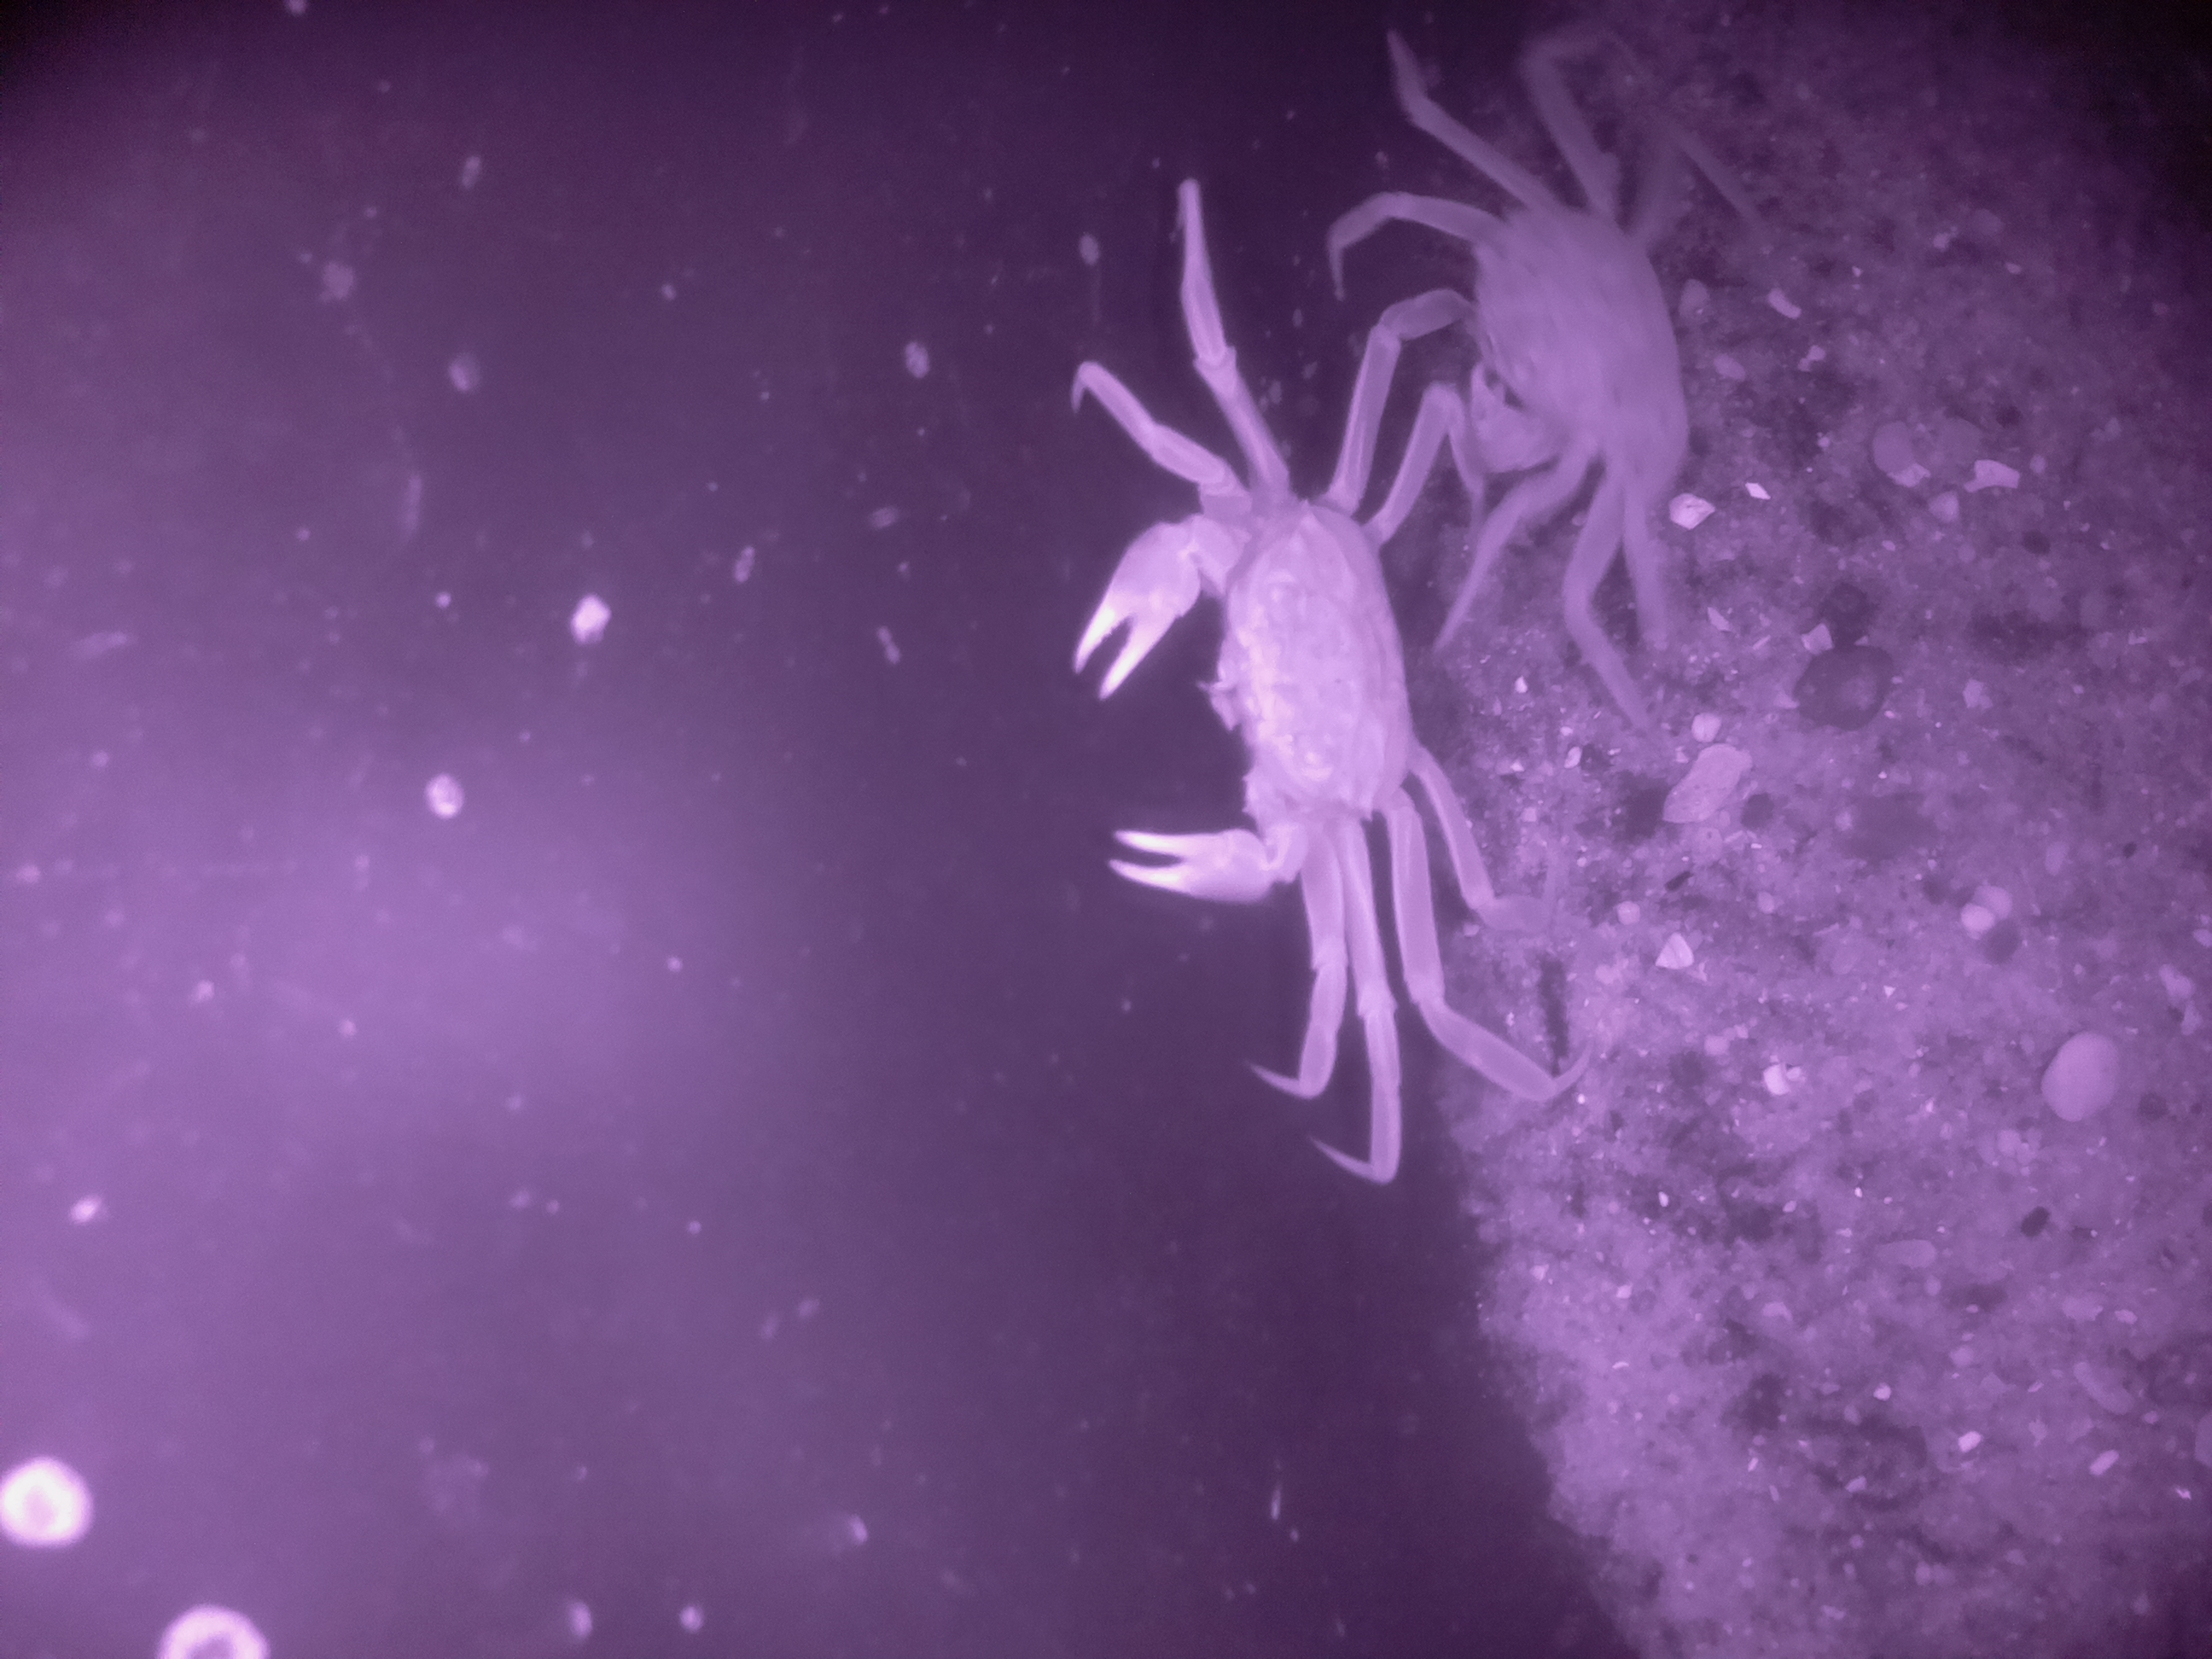Crab: (967, 410, 1559, 974), (1334, 68, 1782, 552)
